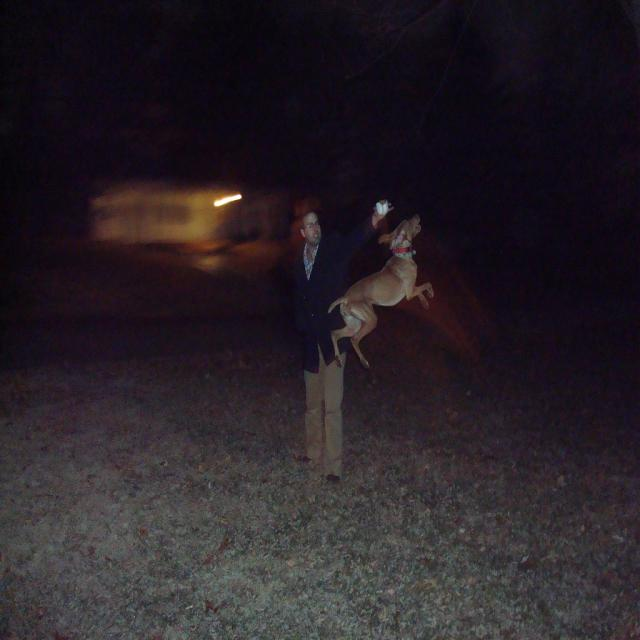Dog: (332, 213, 439, 362)
